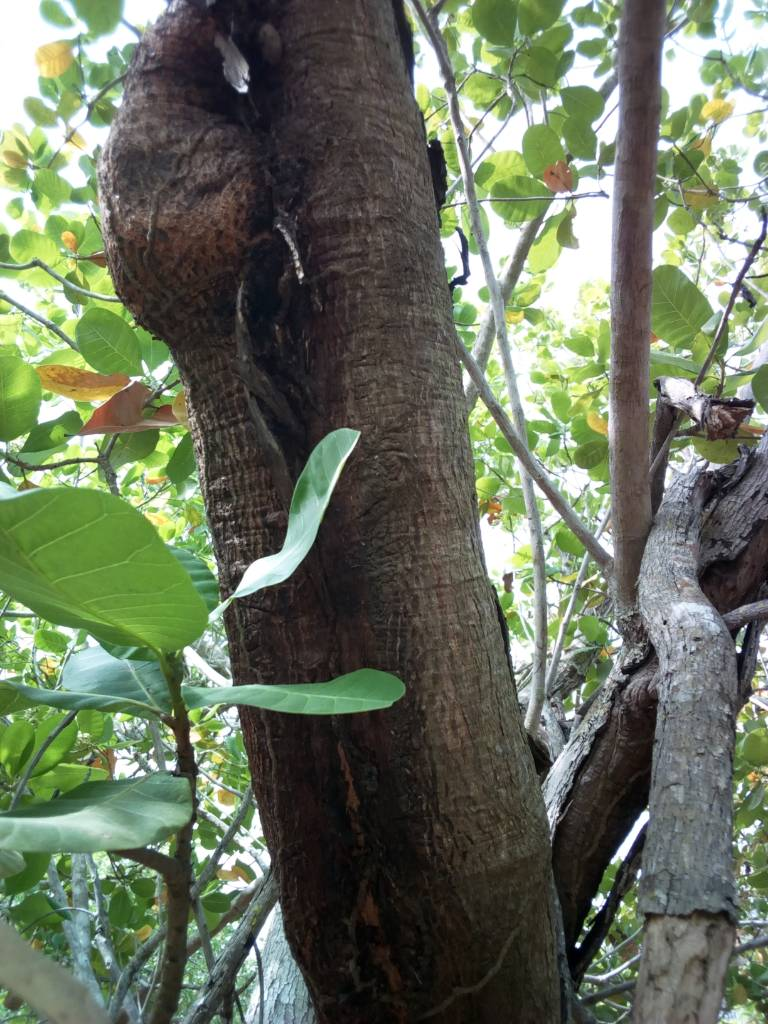Gommose: (280, 749, 444, 999), (224, 182, 318, 446)
